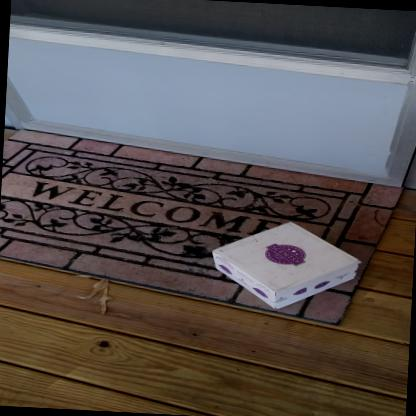box: (211, 219, 364, 313)
